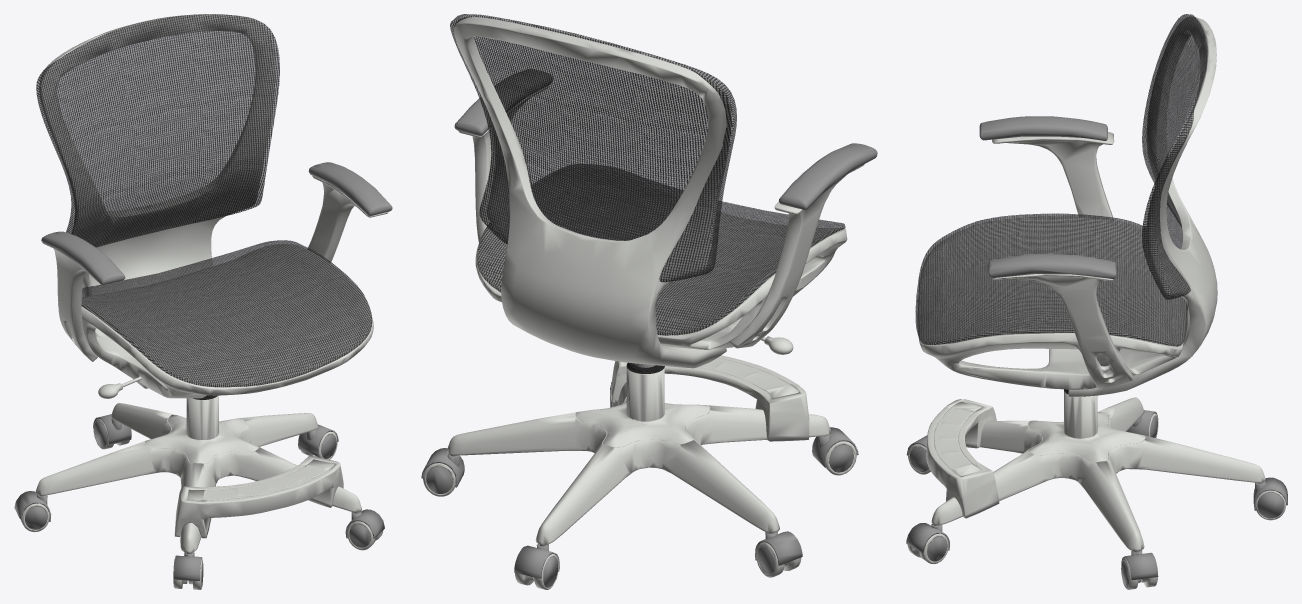
Rendered from adult_chair.glb.
3 renders of one model, left to right at view 1: azimuth 30°, elevation 25°; view 2: azimuth 150°, elevation 25°; view 3: azimuth 270°, elevation 25°, orthographic. The views are drawn at different scales.
Parts seen in each view (by area): view 1: BP_BLIC00520; view 2: BP_BLIC00520; view 3: BP_BLIC00520.
Part boxes in pixels (left/top/right/bottom): BP_BLIC00520: left=14, top=14, right=392, bottom=589; BP_BLIC00520: left=421, top=14, right=877, bottom=589; BP_BLIC00520: left=906, top=14, right=1287, bottom=589.
Bounding box in the file's own units: 0.64 × 0.8581 × 0.6399.
Materials: 5 (1 with a texture image).
